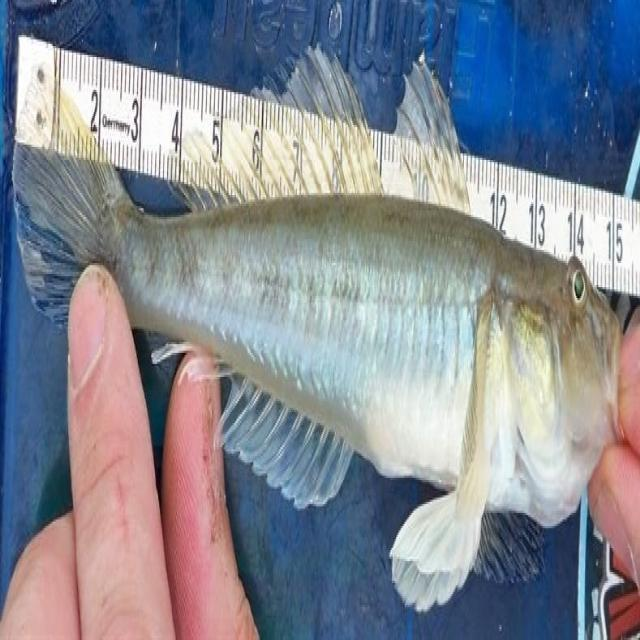Goby: (0, 22, 628, 616)
